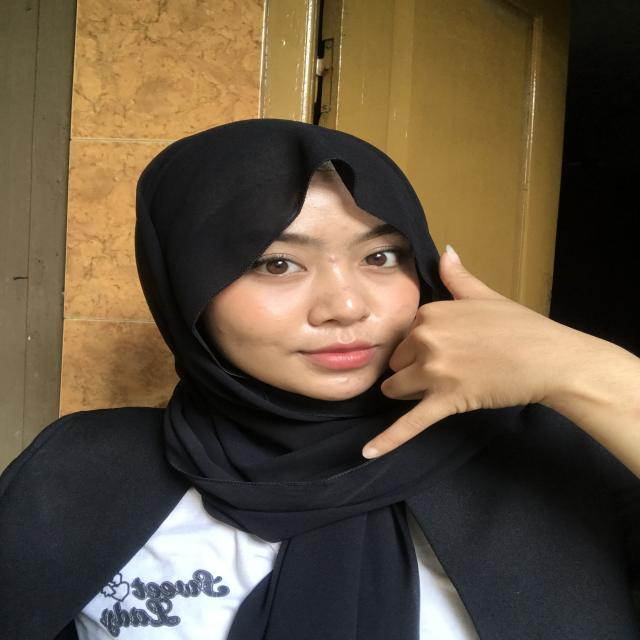telpon: (337, 243, 571, 460)
